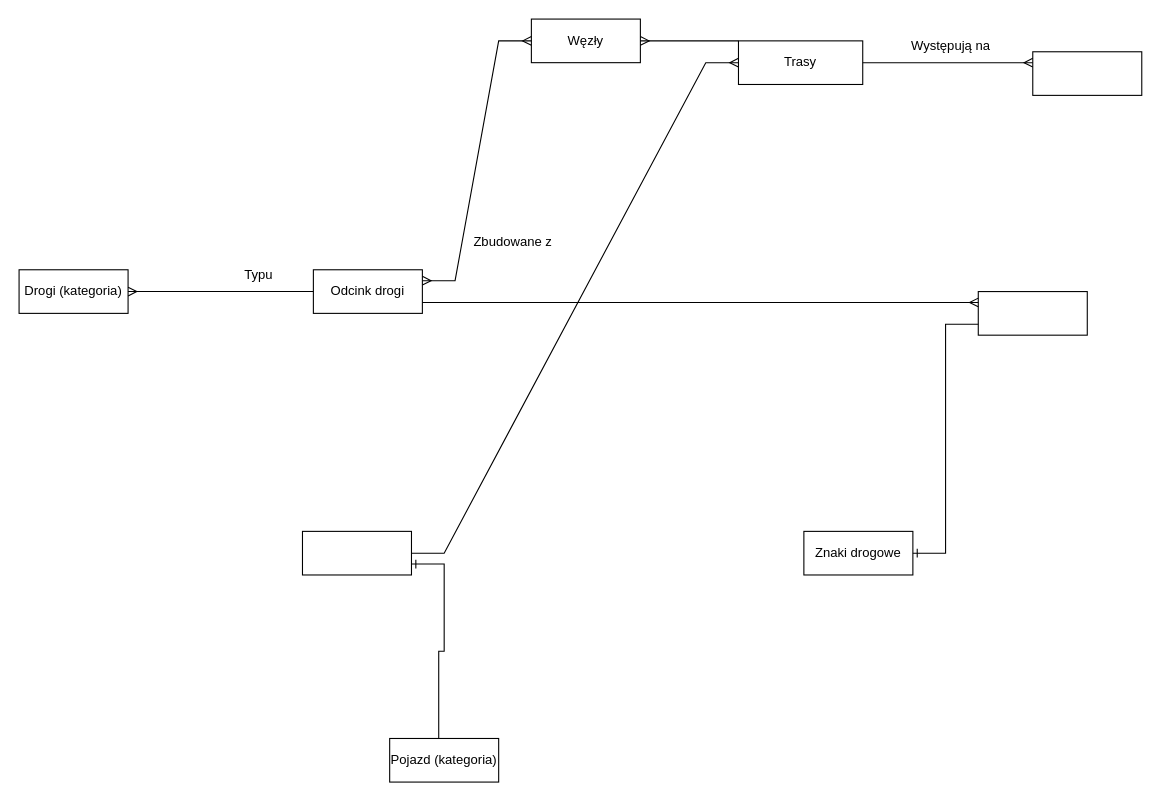
Some shapes in this 1161 by 801 pixel diagram are drawn without their labels. The box of each missing label's shape, as (x1, y1, x2, y2) in pixels:
Pojazdy: (301, 530, 411, 575)
Reguły/Zasady: (977, 290, 1087, 335)
Zdarzenia na drodze: (1032, 51, 1142, 95)
